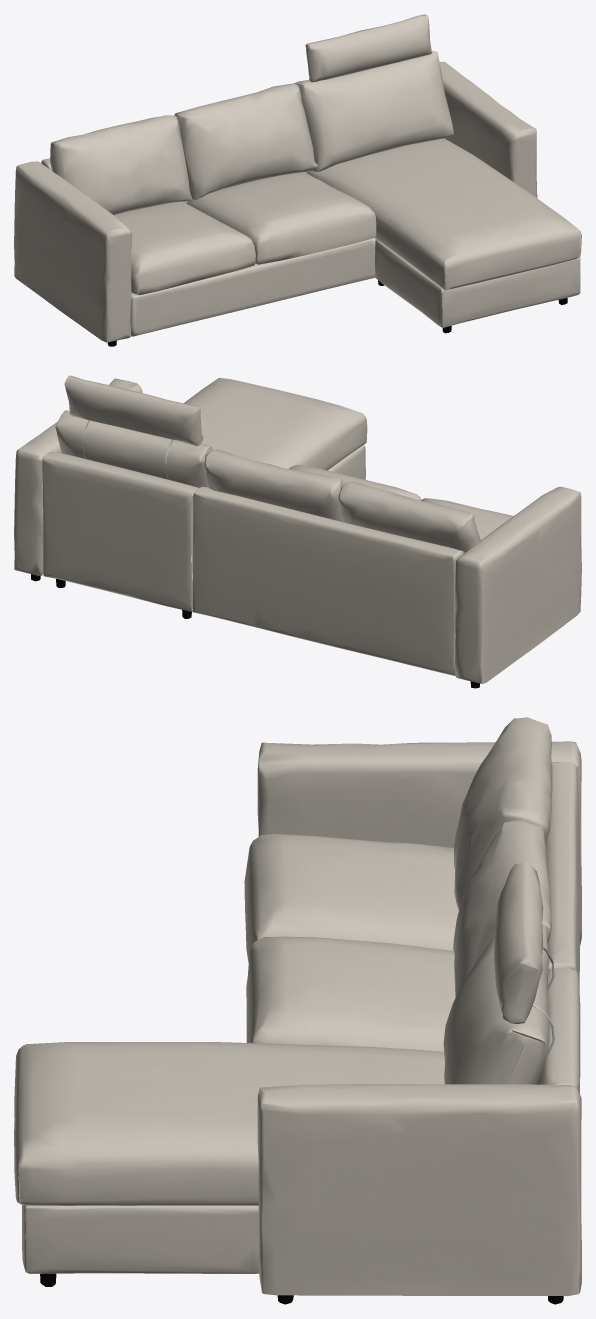
3 renders of one model, top to bottom at view 1: azimuth 30°, elevation 25°; view 2: azimuth 150°, elevation 25°; view 3: azimuth 270°, elevation 25°, orthographic. The views are drawn at different scales.
Bounding box in the file's own units: 2.52 × 1.04 × 1.65.
Materials: 1 (1 with a texture image).
